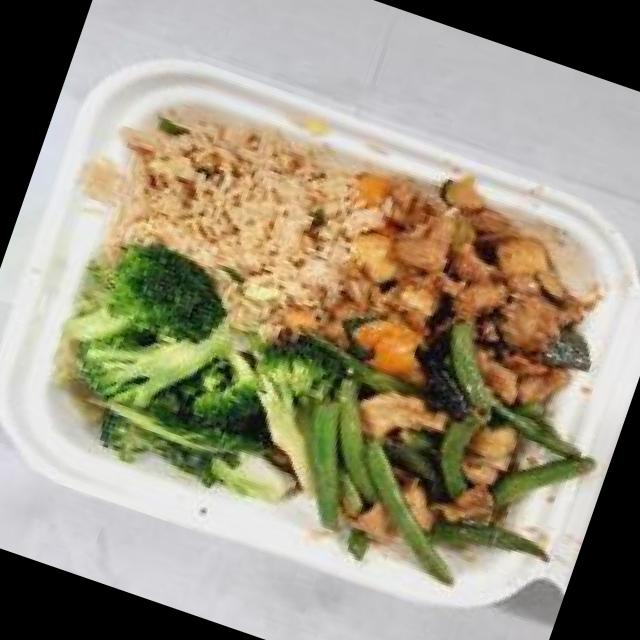Fried Rice: (96, 89, 382, 328)
Kung Pao Chicken: (309, 152, 625, 418)
String Bean Chicken Breast: (272, 308, 620, 620)
Super Greens: (22, 236, 346, 524)
